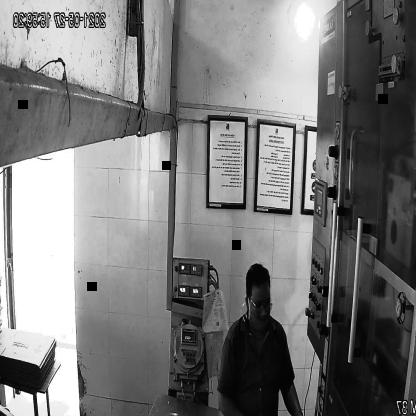goggles: (244, 294, 275, 316)
